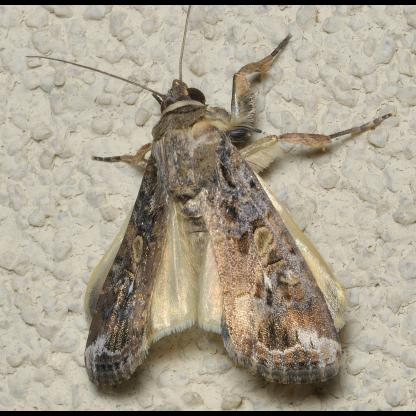Fall Armyworm Moth: (24, 5, 400, 390)
